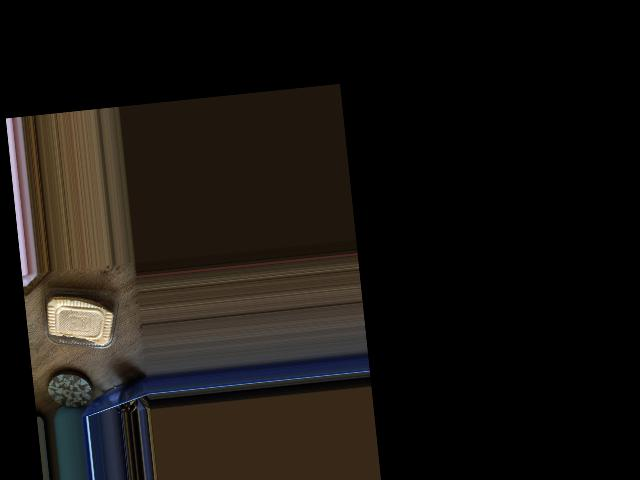cheese: (28, 265, 116, 359)
